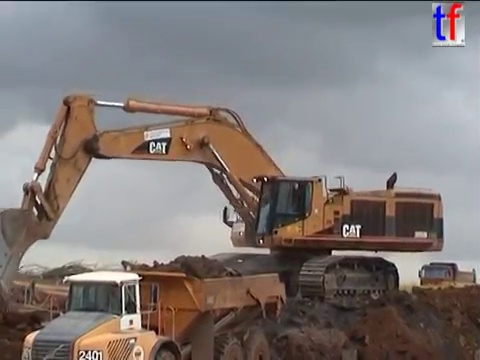excavator: (1, 91, 447, 313)
truck: (18, 267, 288, 360), (417, 260, 478, 297)
